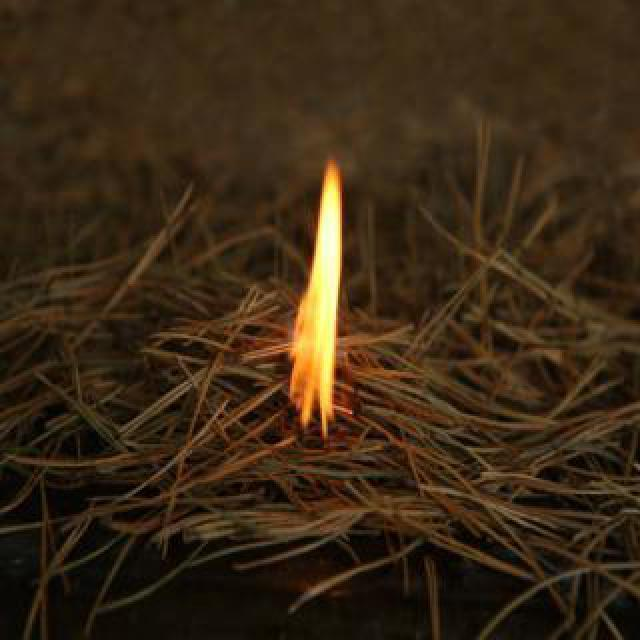Fire: (288, 150, 358, 442)
